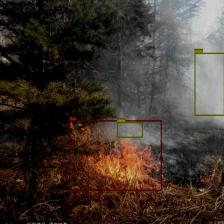fire: (69, 120, 162, 190)
smoke: (194, 52, 224, 116), (117, 122, 142, 137)
